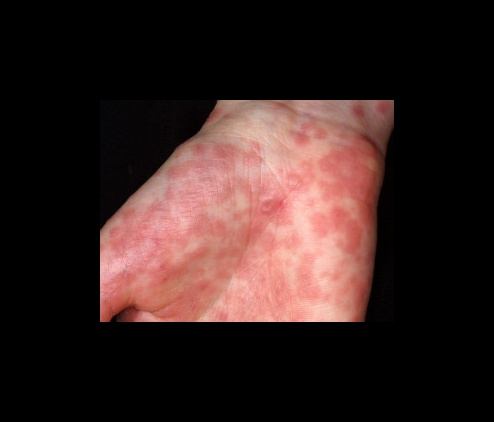SJS-TEN: (98, 100, 402, 323)
